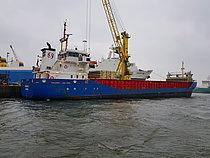Ship: (17, 33, 201, 105)
